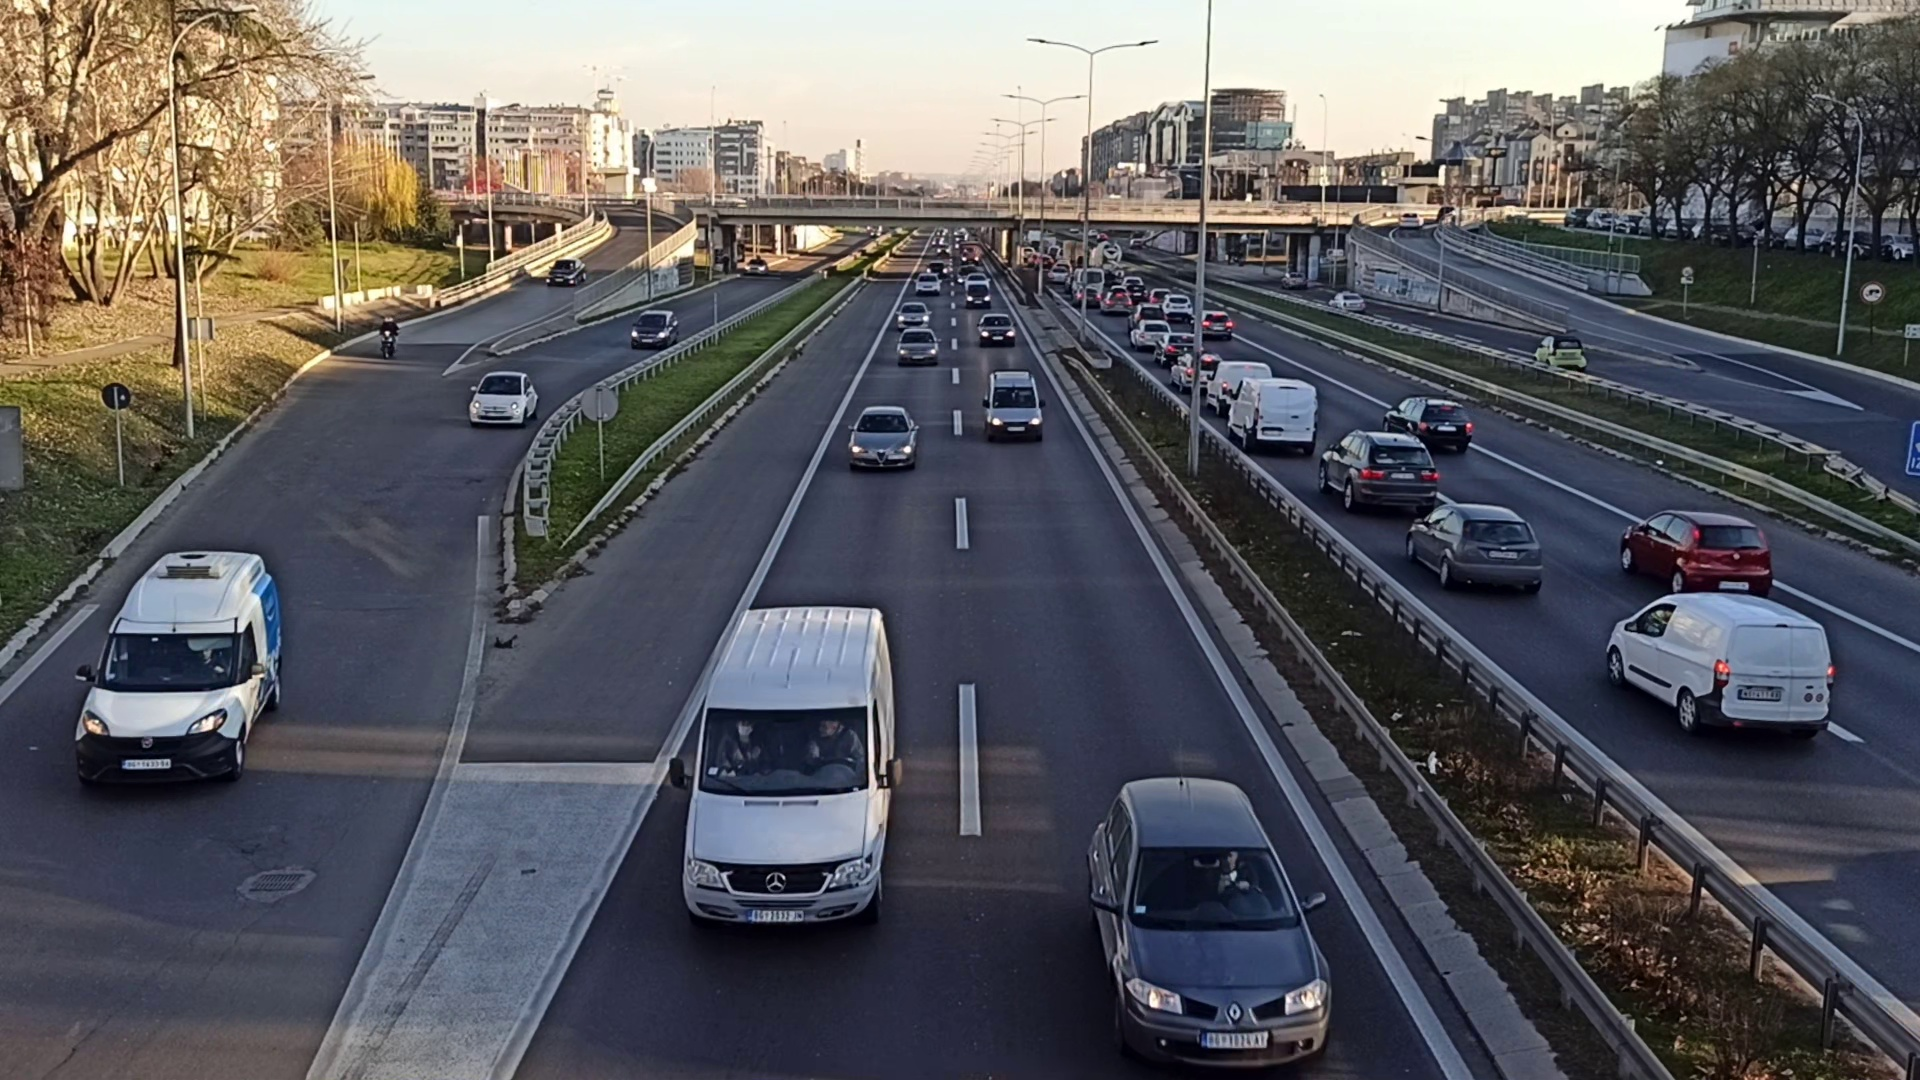car: (1085, 774, 1333, 1065), (1619, 506, 1774, 607), (1404, 502, 1543, 596), (1320, 429, 1435, 518), (1383, 397, 1472, 455), (848, 404, 915, 473), (469, 371, 541, 429), (985, 369, 1042, 438), (1534, 334, 1586, 372), (632, 309, 678, 349), (895, 328, 938, 364), (977, 314, 1015, 348), (547, 257, 588, 289), (897, 302, 934, 327)
motorcycle: (380, 316, 398, 359)
van: (686, 605, 901, 930), (70, 547, 290, 796), (1606, 589, 1833, 742), (1228, 378, 1319, 455)
